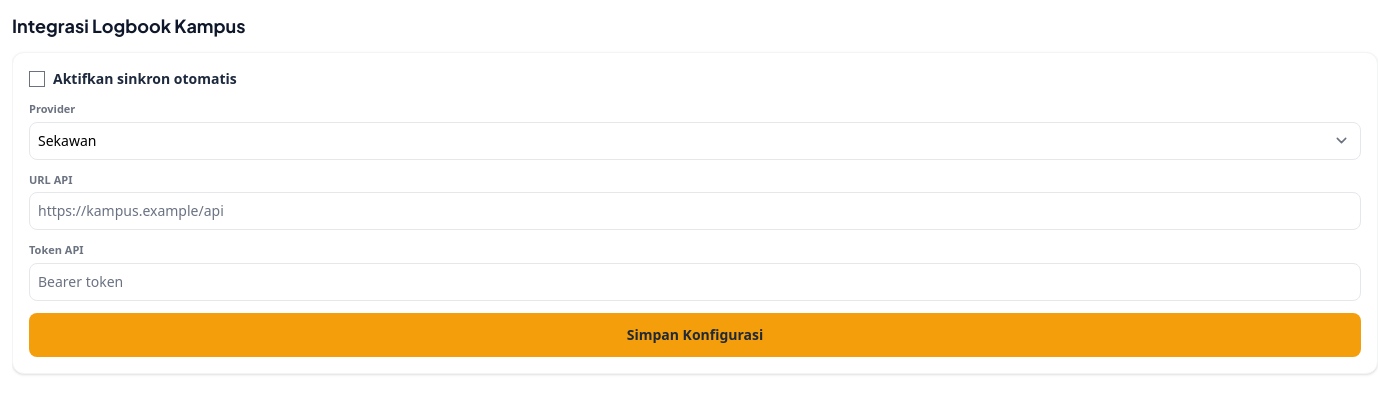
CampusLogbookConfigCard › saves edited config (sending token only when provided)
The width and height of the screenshot is (1378, 420).
Expected: the text "Aktifkan sinkron otomatis" is shown, x1=29 y1=69 x2=237 y2=88
Type "https://kpti.example/api" into the field with placeholder "https://kampus.example/api". click: [695, 211]
box: x1=29 y1=192 x2=1361 y2=230
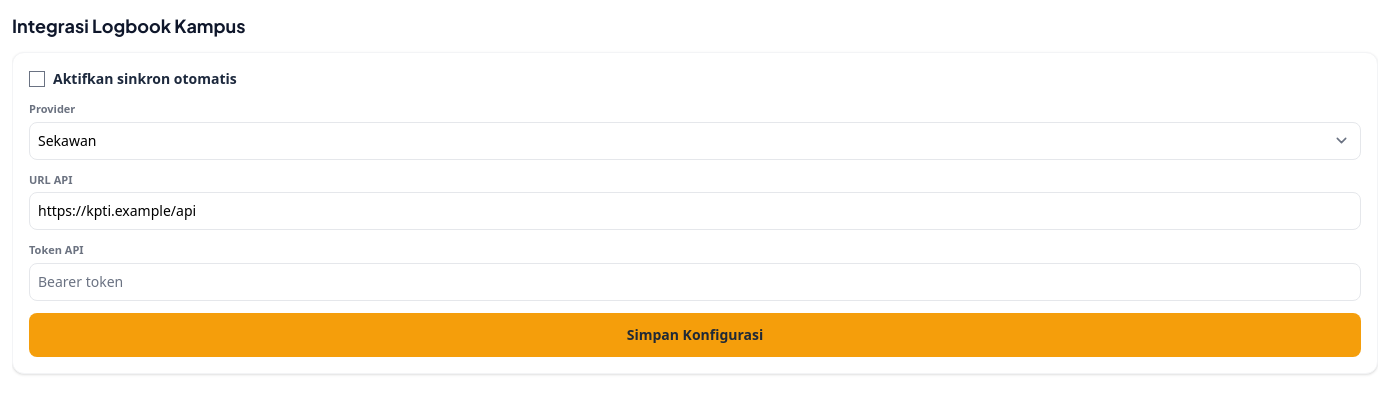
Type "rahasia-9" into the password field with placeholder "Bearer token". click: [695, 282]
box: x1=29 y1=262 x2=1361 y2=300
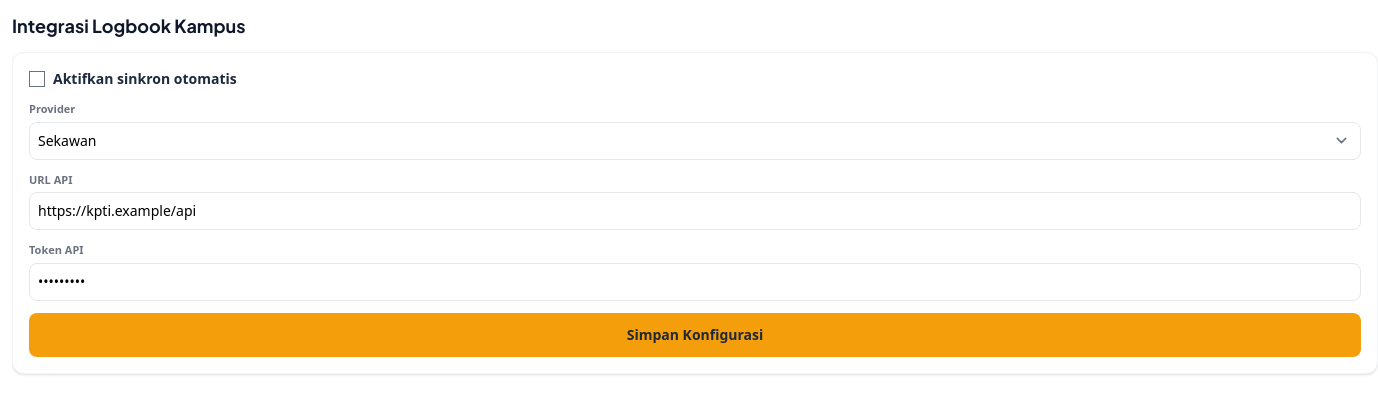
Click the button "Simpan Konfigurasi". click: [695, 334]
box: x1=29 y1=312 x2=1361 y2=356
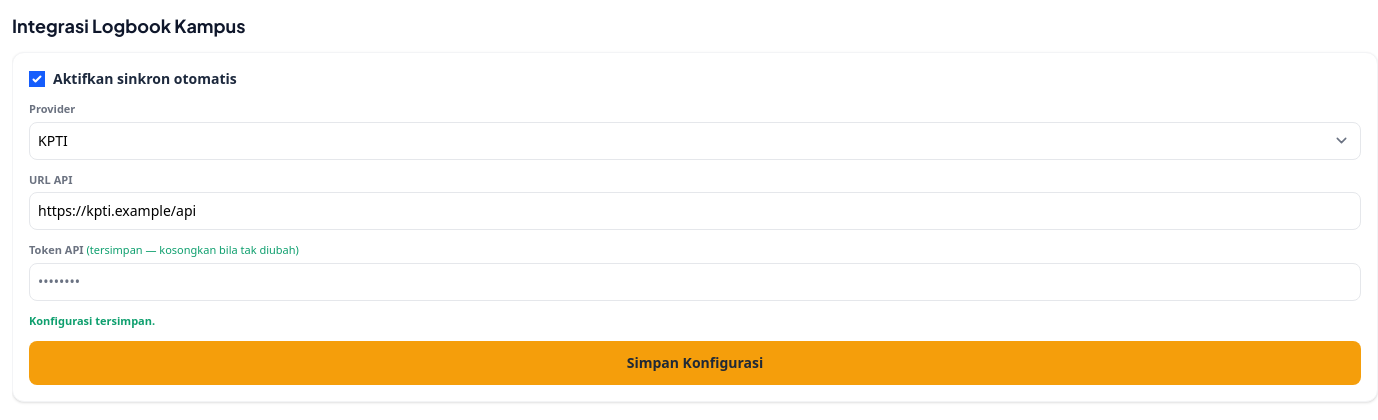
Now the text "Konfigurasi tersimpan." is shown, box x1=29 y1=312 x2=155 y2=328
